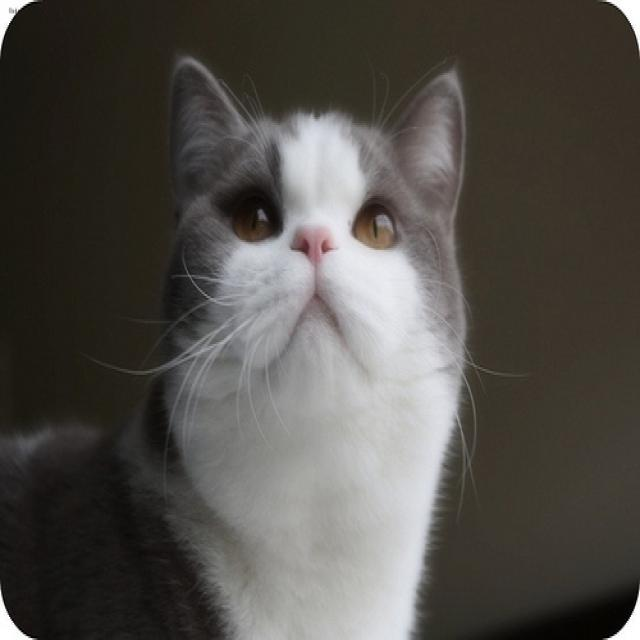British_Shorthair: (154, 50, 480, 490)
